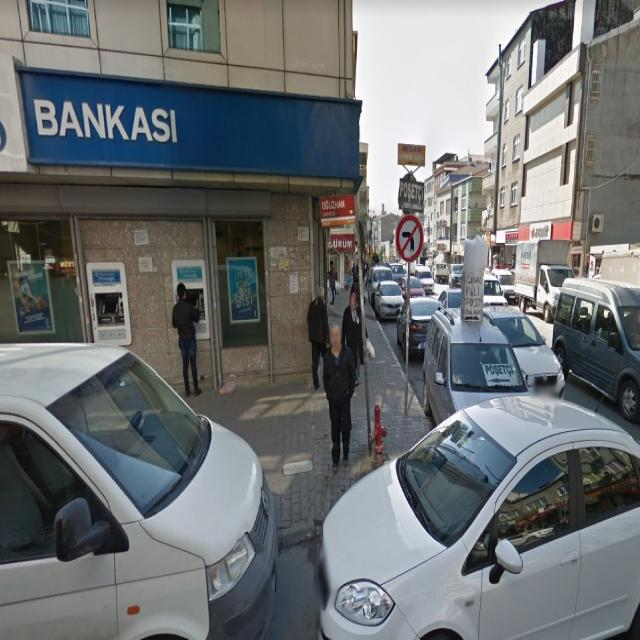soladonulmez: (396, 214, 424, 260)
